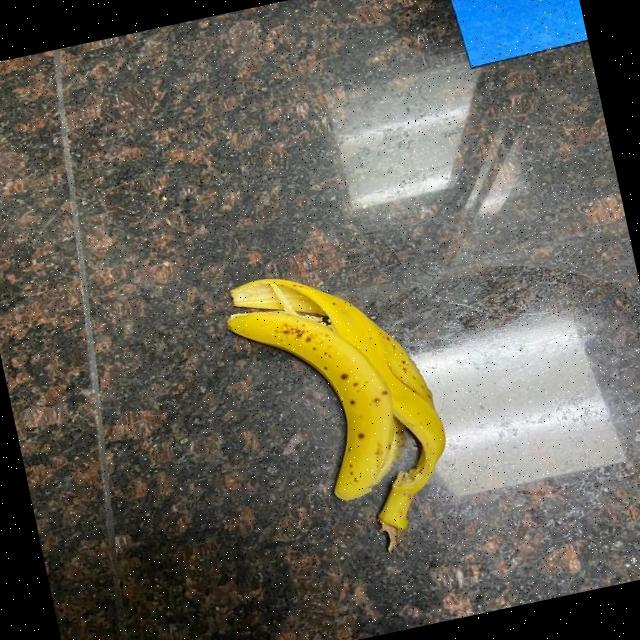banana-peel: (217, 246, 468, 576)
